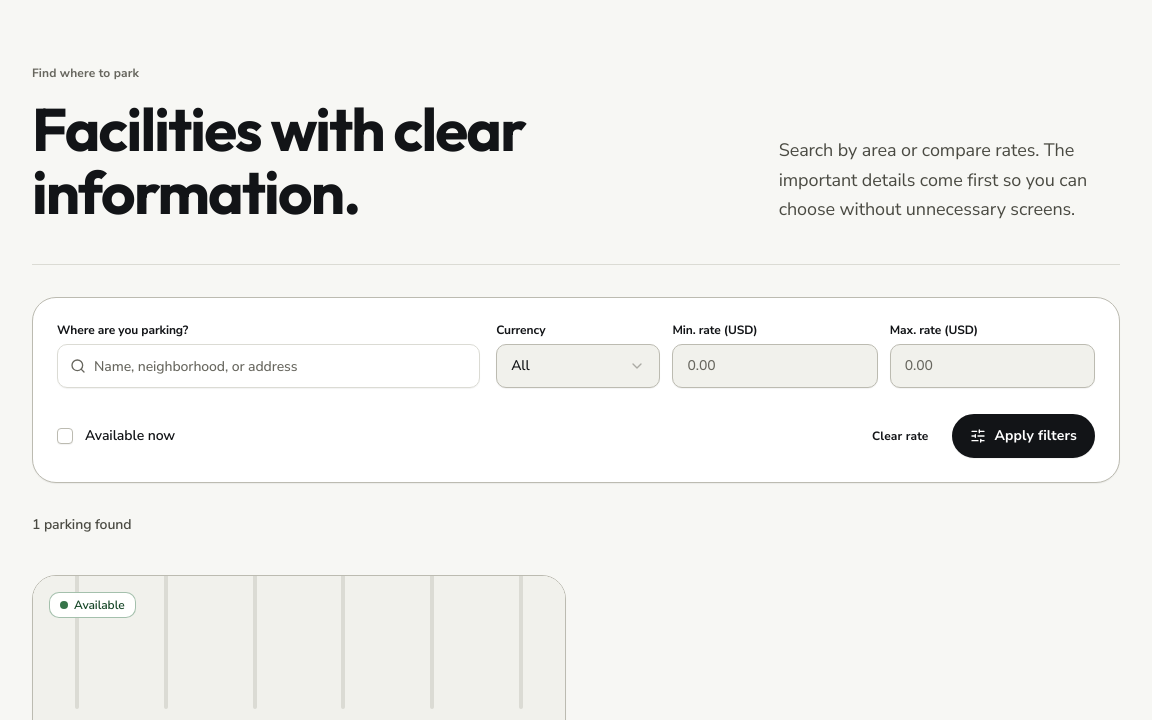
Scenario: public parking catalog › clears unsubmitted rate values and currency selection
The width and height of the screenshot is (1152, 720).
Click the dropdown named "Currency": (578, 366) x1=496 y1=344 x2=660 y2=388
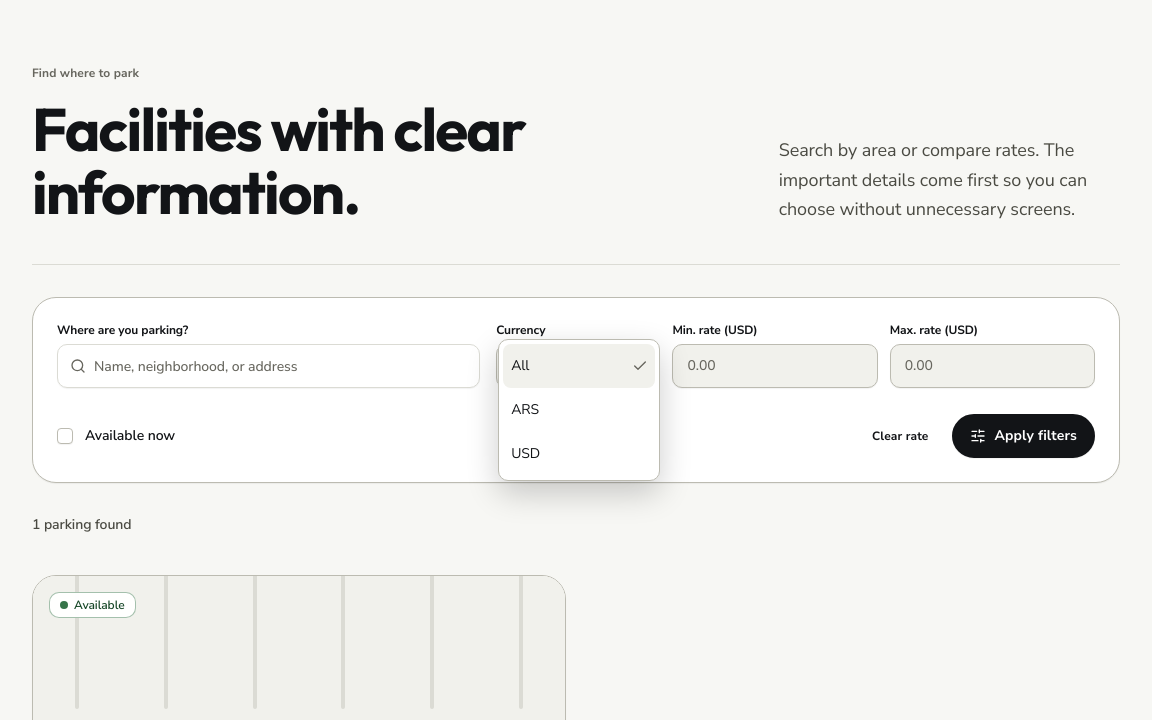
Click the option "ARS": (525, 410) x1=511 y1=400 x2=539 y2=419
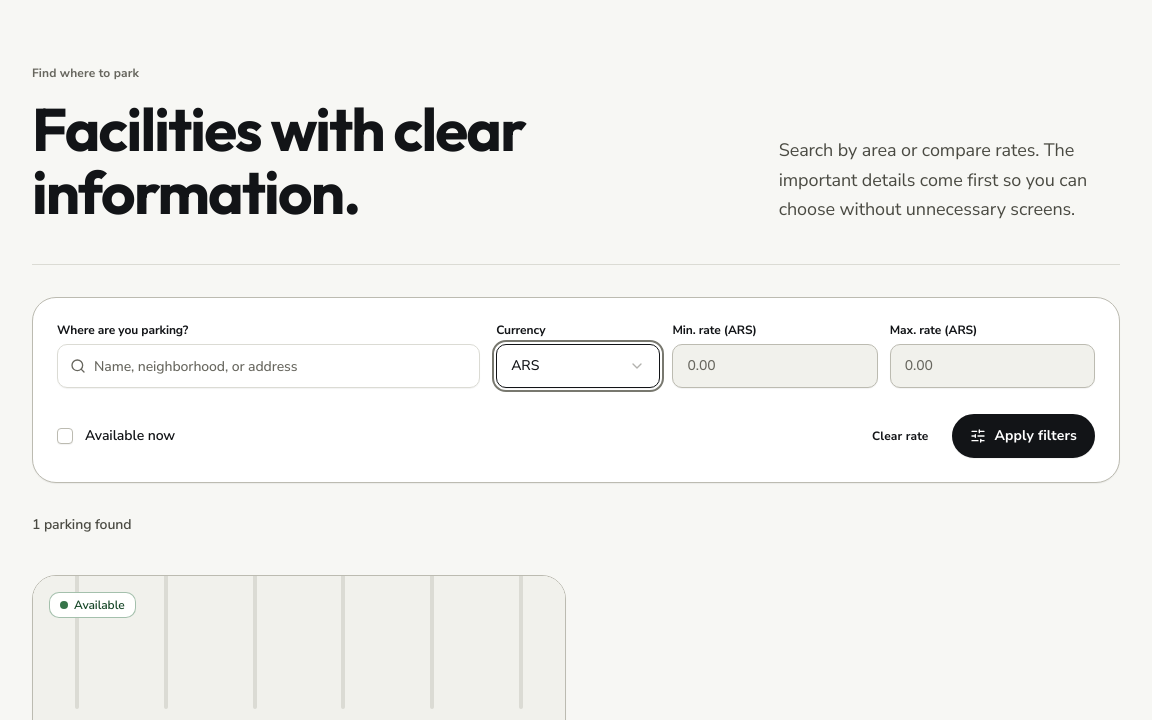
In the number field labelled "Min. rate (ARS)": (775, 366) x1=672 y1=344 x2=878 y2=388, type "10"
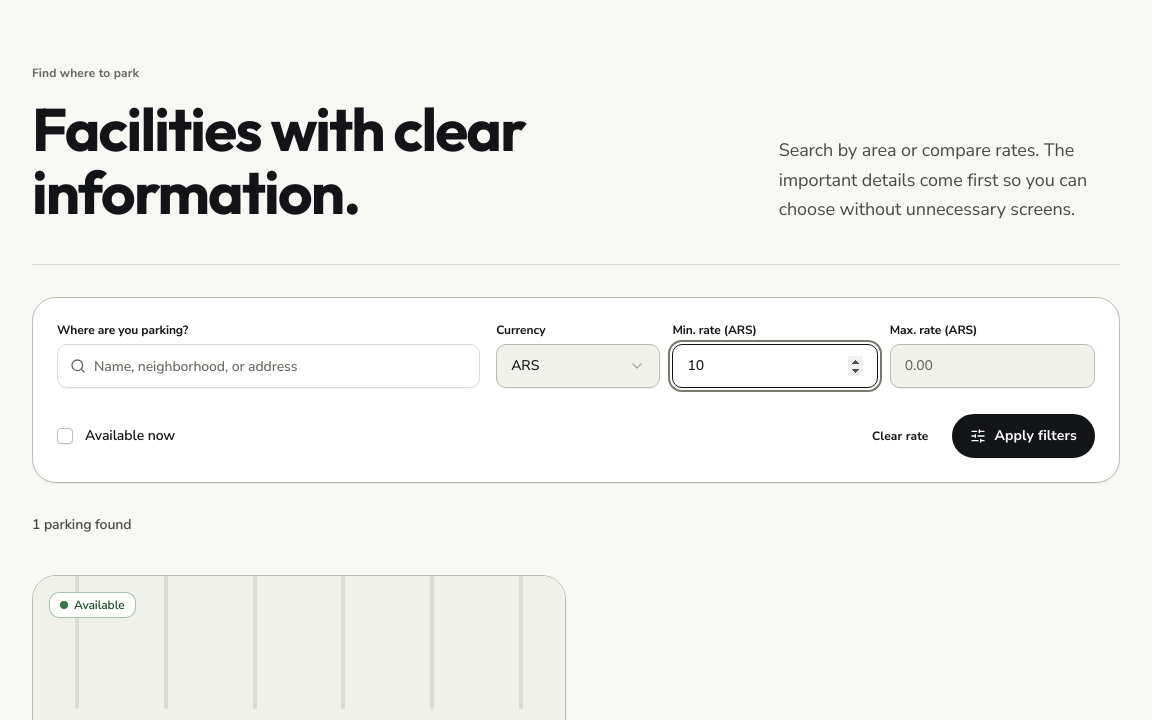
Click the button "Clear rate": (900, 436) x1=860 y1=414 x2=940 y2=458
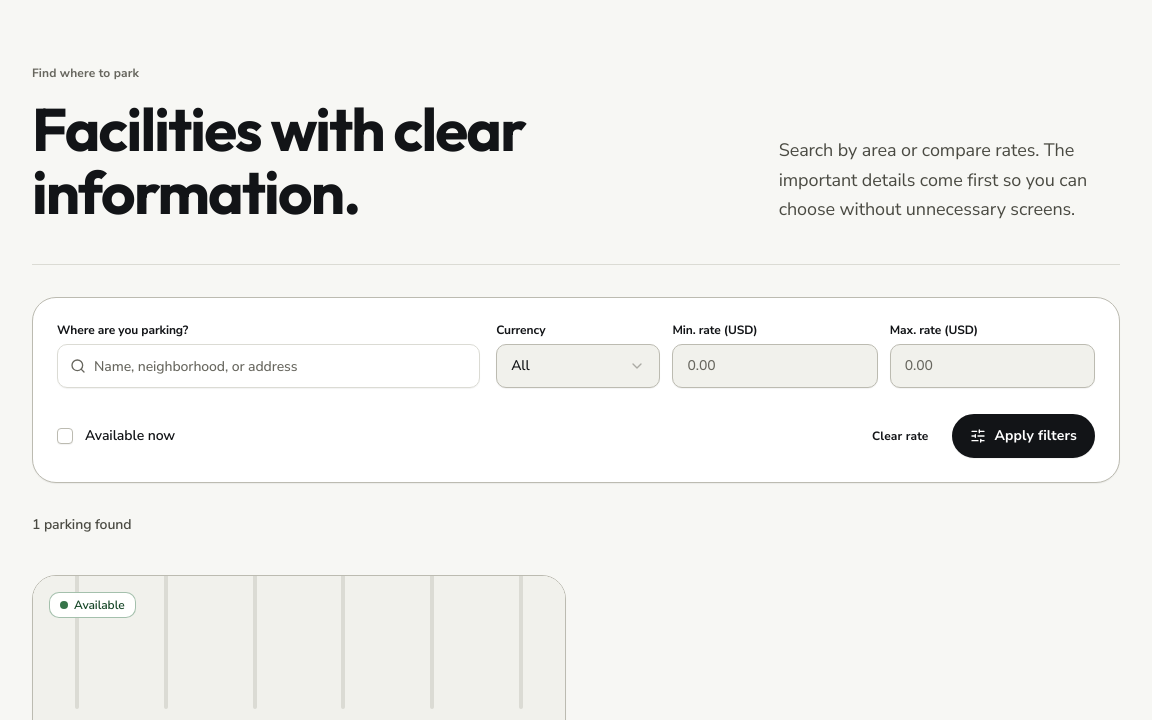
Expected: the number field labelled "Min. rate (USD)" is empty, x1=672 y1=344 x2=878 y2=388
Expected: the dropdown named "Currency" reads "All", x1=496 y1=344 x2=660 y2=388
